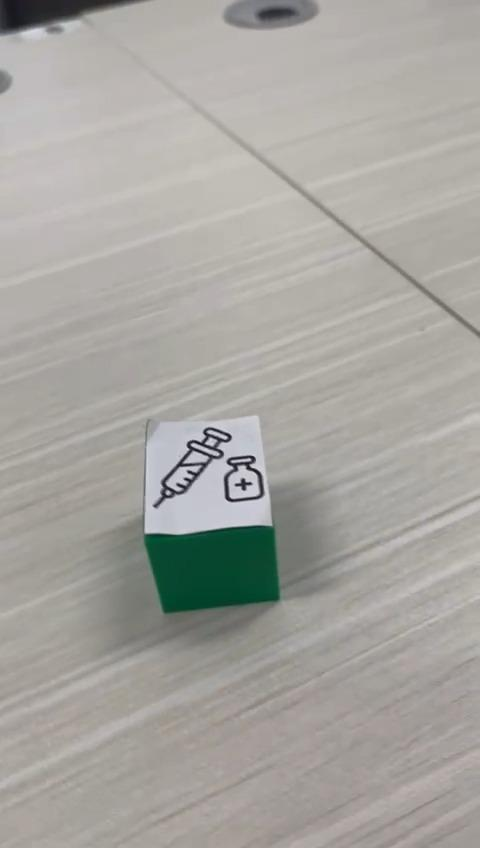antiseptic cream: (140, 413, 281, 614)
